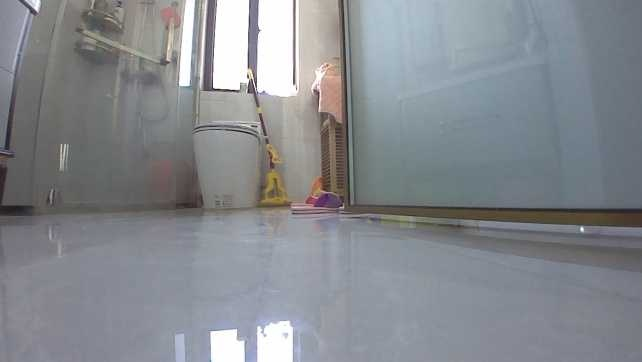slipper: (289, 190, 345, 216)
toilet: (191, 115, 269, 210)
